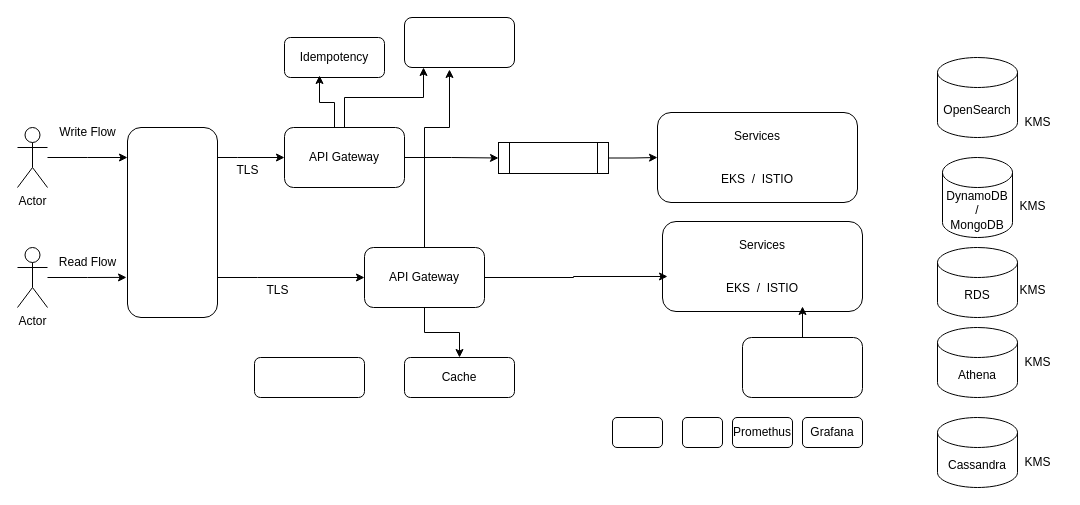
Some shapes in this 1080 by 505 pixel diagram are drawn without their labels. The box of each missing label's shape, as (x1, y1, x2, y2) in pixels:
AI/ML: (742, 336, 862, 398)
CloudFront: (254, 356, 364, 398)
Cognito / Keyclock: (404, 16, 514, 68)
FluentD: (612, 416, 662, 448)
Kafka / SQS: (498, 142, 608, 174)
Loki: (682, 416, 722, 448)
WAF: (126, 126, 218, 318)
